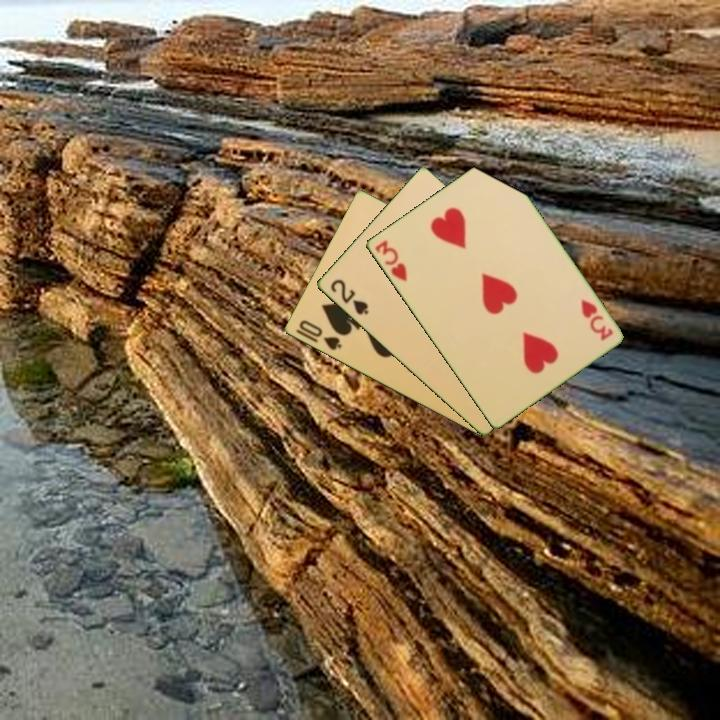10s: (295, 316, 344, 353)
2s: (326, 276, 372, 318)
3h: (371, 236, 410, 284), (577, 296, 616, 343)
